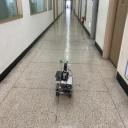cart: (55, 72, 73, 98)
